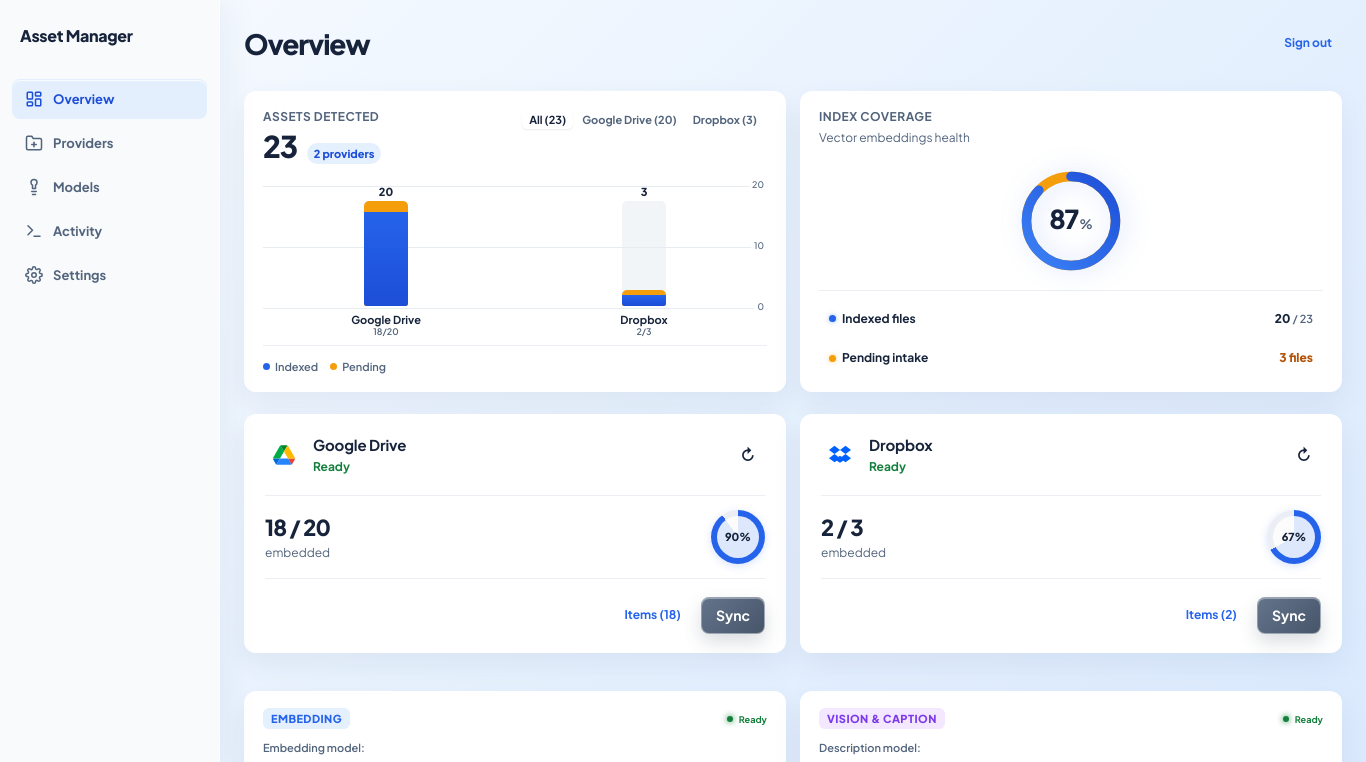
shows model unavailable dialog when provider sync is rejected
The image size is (1366, 762).
Click the button with aria-label "Sync Google Drive" at (733, 615), box [701,597,765,634]
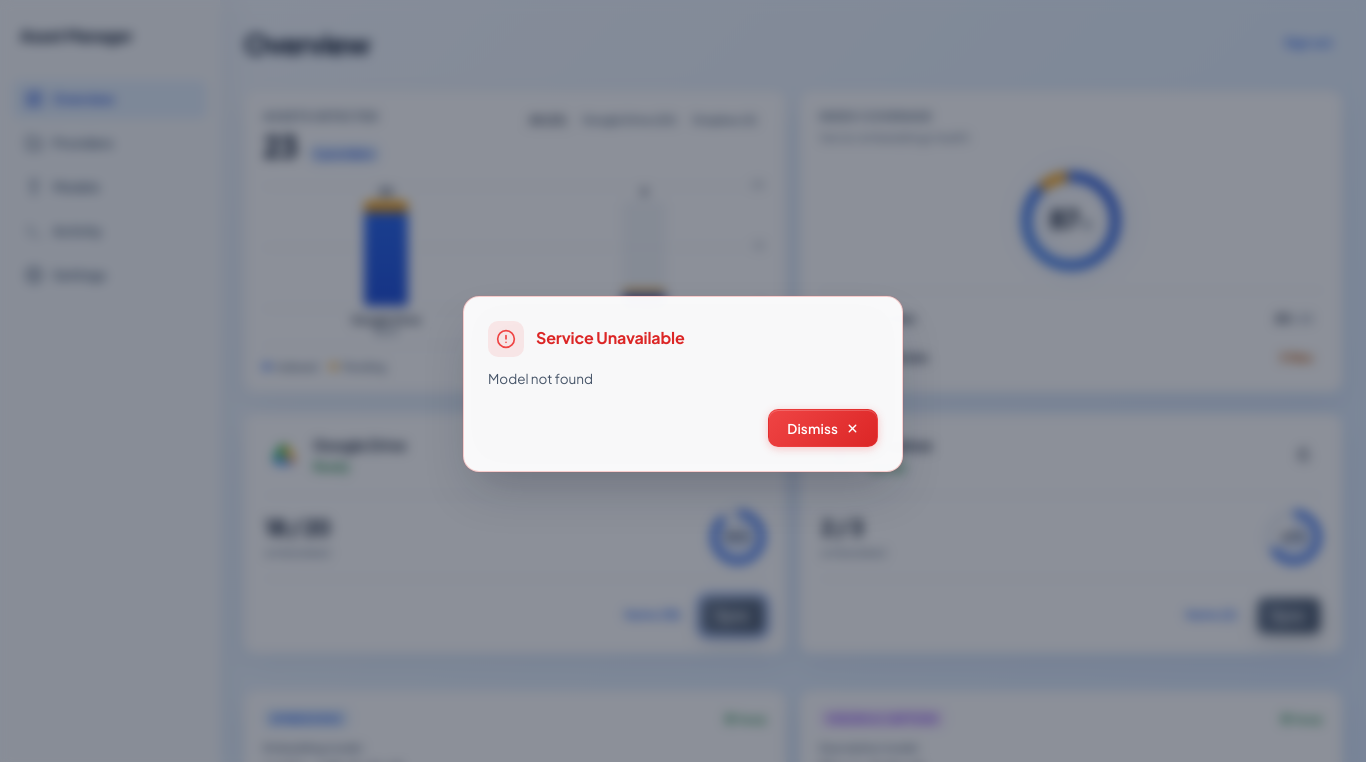
Now the message shows "Service Unavailable", box [536,328,685,348]
Now the message shows "Model not found", box [488,370,593,387]
